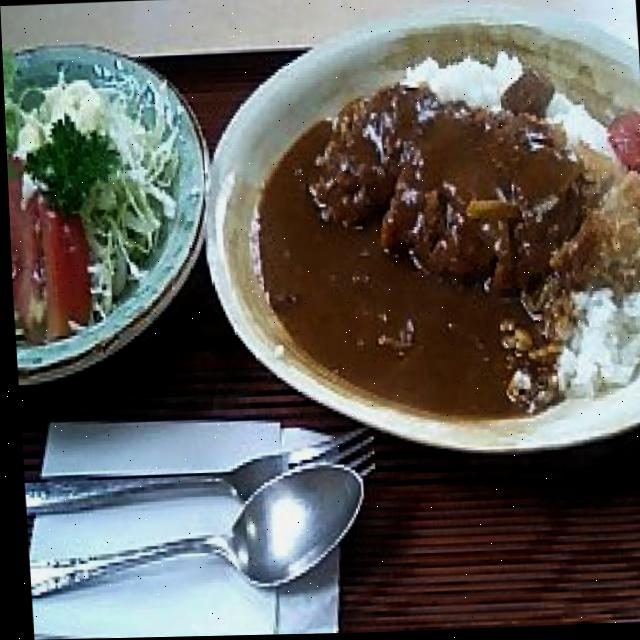猪肉菜式: (188, 0, 640, 476)
